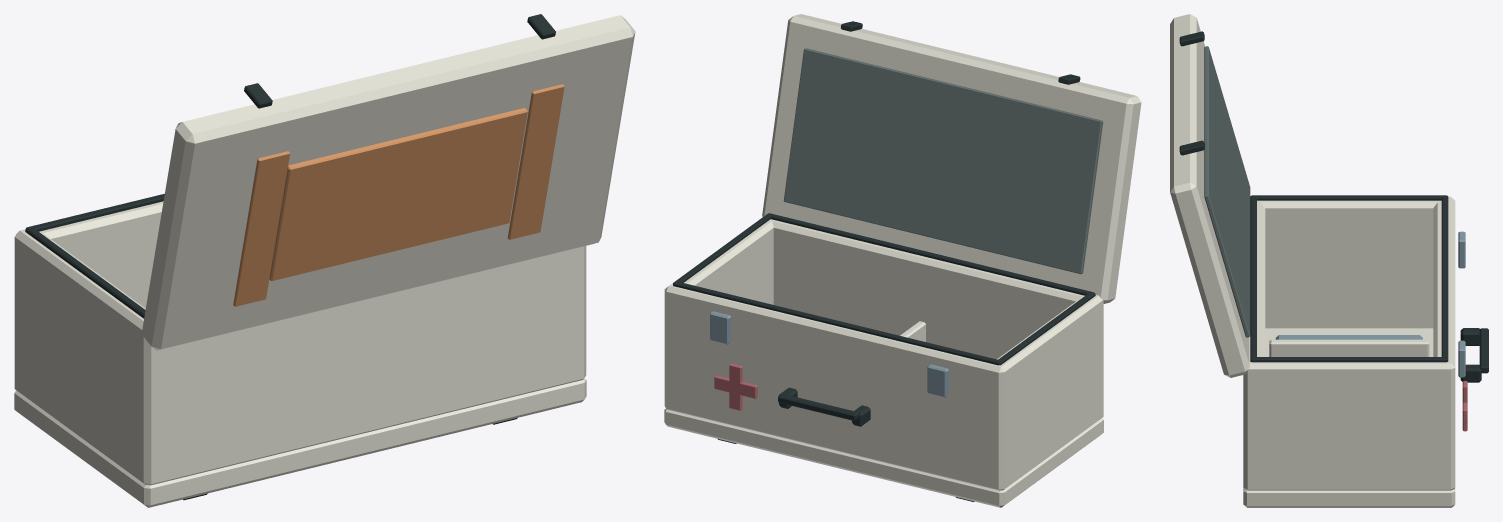
File: lifesaving_deck_box_opened.glb
3 views of the same model, side by side, from view 1: azimuth 30°, elevation 25°; view 2: azimuth 150°, elevation 25°; view 3: azimuth 270°, elevation 25° (orthographic). The views are drawn at different scales.
Visible parts, largest first — view 1: moving_lid, body_back_wall, moving_lid_identity, body_side_wall (×2), body_floor, moving_deck_stripe (×2), body_front_wall, rim_seal (×2); view 2: moving_lid_pad, body_front_wall, moving_lid, body_back_wall, body_side_wall (×2), body_floor, rim_seal (×4), latch_base (×2), front_carry_grip, deck_rescue_vertical; view 3: body_side_wall (×2), moving_lid, moving_lid_pad, body_floor, rim_seal (×4), body_front_wall, inner_bulkhead, body_back_wall, body_bench_leg, front_carry_grip.
Part boxes in pixels (left/top/right/bottom): moving_lid: left=141, top=15, right=635, bottom=350; body_back_wall: left=135, top=246, right=583, bottom=484; moving_lid_identity: left=269, top=108, right=527, bottom=281; body_side_wall (×2): left=14, top=230, right=586, bottom=485; body_floor: left=14, top=378, right=586, bottom=507; moving_deck_stripe (×2): left=233, top=84, right=564, bottom=306; body_front_wall: left=14, top=201, right=163, bottom=387; rim_seal (×2): left=25, top=193, right=164, bottom=318; moving_lid_pad: left=783, top=48, right=1103, bottom=274; body_front_wall: left=666, top=284, right=1011, bottom=490; moving_lid: left=762, top=14, right=1141, bottom=303; body_back_wall: left=772, top=220, right=1103, bottom=420; body_side_wall (×2): left=664, top=217, right=1103, bottom=490; body_floor: left=664, top=408, right=1103, bottom=507; rim_seal (×4): left=673, top=213, right=1095, bottom=365; latch_base (×2): left=710, top=311, right=948, bottom=397; front_carry_grip: left=778, top=393, right=859, bottom=420; deck_rescue_vertical: left=729, top=363, right=742, bottom=410; body_side_wall (×2): left=1243, top=196, right=1455, bottom=490; moving_lid: left=1170, top=14, right=1249, bottom=377; moving_lid_pad: left=1204, top=46, right=1250, bottom=337; body_floor: left=1243, top=328, right=1455, bottom=507; rim_seal (×4): left=1250, top=195, right=1448, bottom=362; body_front_wall: left=1433, top=197, right=1455, bottom=490; inner_bulkhead: left=1269, top=339, right=1429, bottom=356; body_back_wall: left=1247, top=201, right=1265, bottom=490; body_bench_leg: left=1275, top=335, right=1422, bottom=339; front_carry_grip: left=1479, top=328, right=1488, bottom=373.
Size of the model in its own units: 1.57 by 1.47 by 1.22.
